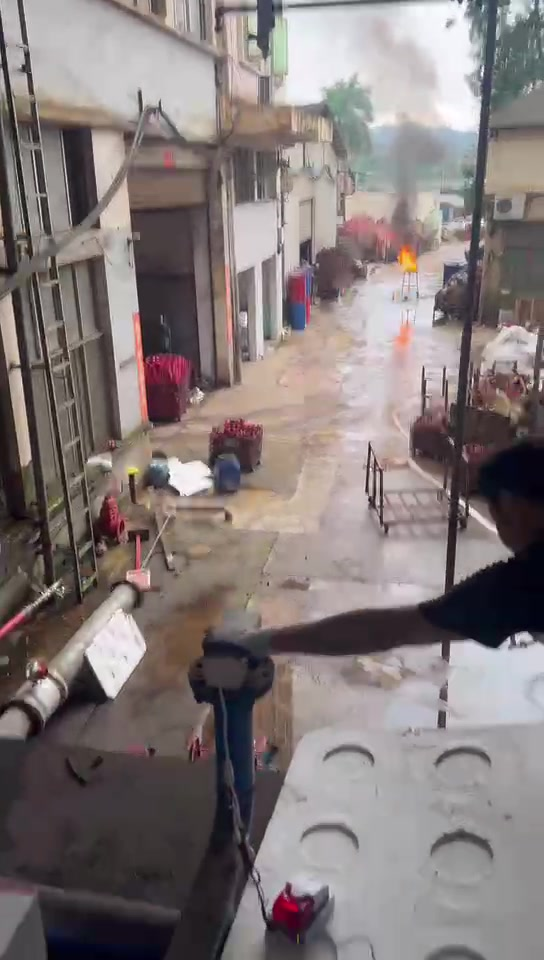fire: (396, 244, 416, 271)
